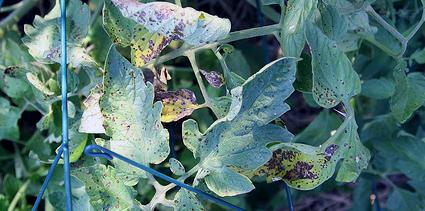Tomato Septoria leaf spot: (175, 55, 308, 196), (94, 42, 174, 185), (259, 120, 374, 200), (24, 0, 95, 88), (117, 0, 232, 52), (100, 0, 171, 75), (304, 16, 360, 111), (72, 159, 143, 211), (166, 186, 207, 211)
